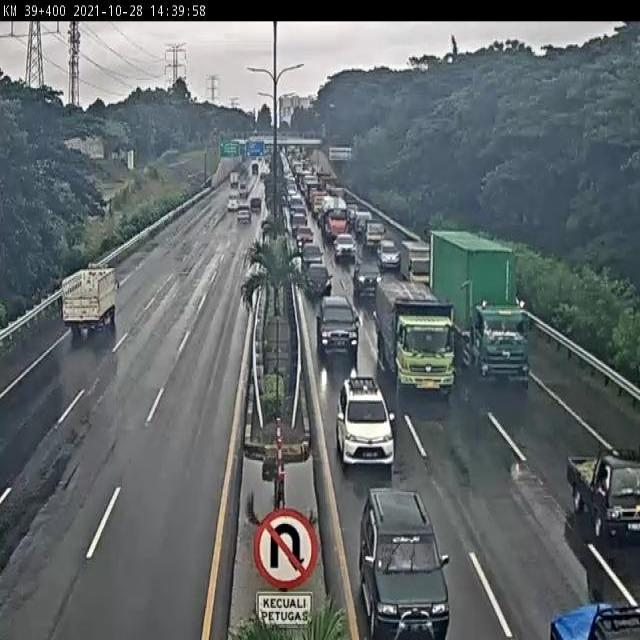big truck: (429, 232, 530, 385), (372, 277, 449, 387)
car: (360, 488, 451, 640), (568, 452, 640, 533), (336, 373, 396, 467), (316, 294, 355, 349), (353, 256, 386, 293), (306, 263, 330, 297), (362, 216, 387, 248), (376, 240, 398, 267), (300, 241, 322, 268), (335, 233, 354, 259)
mid truck: (62, 264, 121, 333)
small truck: (401, 239, 434, 281)
